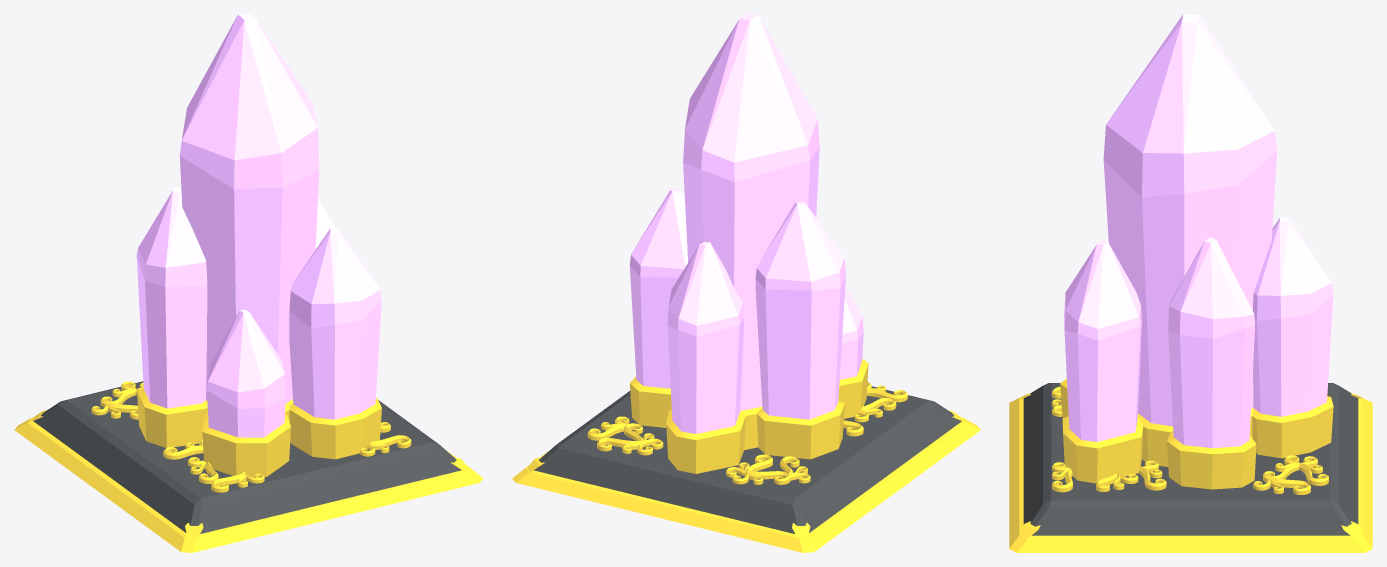
The model's file is religious_prayer_crystals.fbx.
3 renders of one model, left to right at view 1: azimuth 30°, elevation 25°; view 2: azimuth 150°, elevation 25°; view 3: azimuth 270°, elevation 25°, orthographic. The views are drawn at different scales.
Parts seen in each view (by area): view 1: crystals1, base13, crystal_base1, swirls55, swirls57; view 2: crystals1, base13, crystal_base1, swirls56, swirls57, swirls55; view 3: crystals1, base13, crystal_base1, swirls55, swirls56, corners1.
Boxes of the visible parts, <box> form: crystals1: <box>136,14,381,437</box>; base13: <box>14,381,483,552</box>; crystal_base1: <box>137,388,381,476</box>; swirls55: <box>163,422,411,492</box>; swirls57: <box>91,381,143,419</box>; crystals1: <box>629,14,863,433</box>; base13: <box>512,386,980,552</box>; crystal_base1: <box>630,359,868,473</box>; swirls56: <box>587,416,663,455</box>; swirls57: <box>726,454,810,484</box>; swirls55: <box>843,382,907,436</box>; crystals1: <box>1064,14,1333,448</box>; base13: <box>1009,383,1372,552</box>; crystal_base1: <box>1060,378,1333,489</box>; swirls55: <box>1052,386,1166,492</box>; swirls56: <box>1253,455,1328,494</box>; corners1: <box>1019,393,1362,537</box>.
Size of the model in its own units: 4.95 by 6.87 by 4.94.
